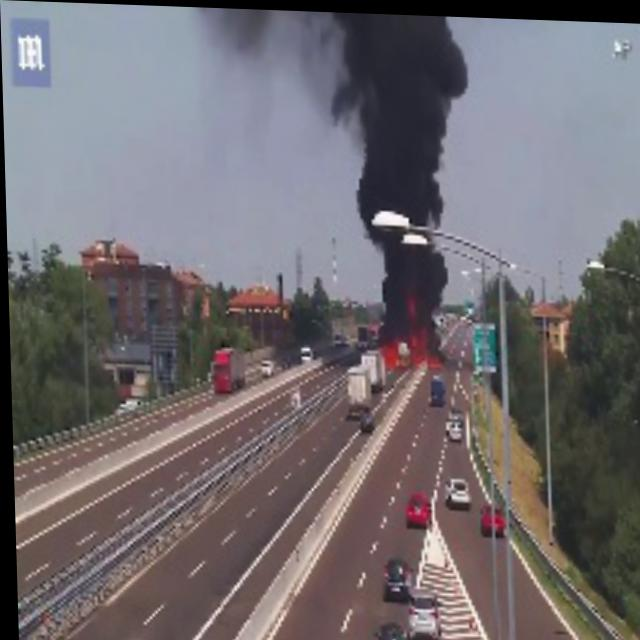fire: (381, 327, 442, 366), (410, 331, 425, 363), (382, 339, 396, 367)
smoke: (351, 10, 458, 215), (185, 5, 347, 55), (298, 54, 353, 113), (385, 242, 435, 303)
